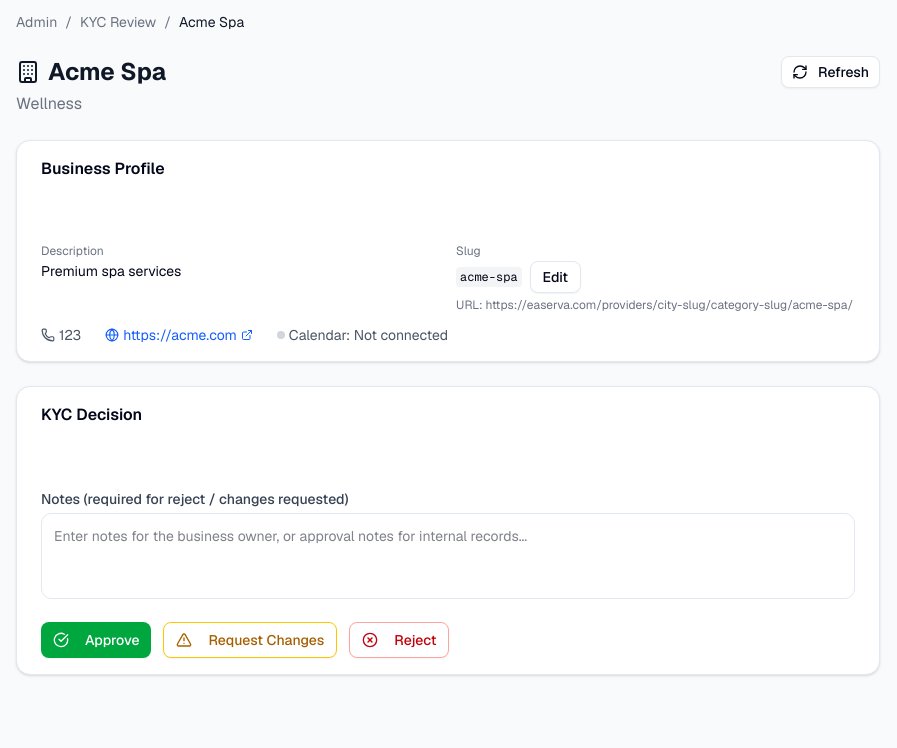
KYC detail page › reject without notes shows validation error
Expected: the heading "Acme Spa" is shown, x1=16 y1=56 x2=166 y2=88
Click the button "Reject". click: (399, 640)
box: x1=349 y1=622 x2=449 y2=658
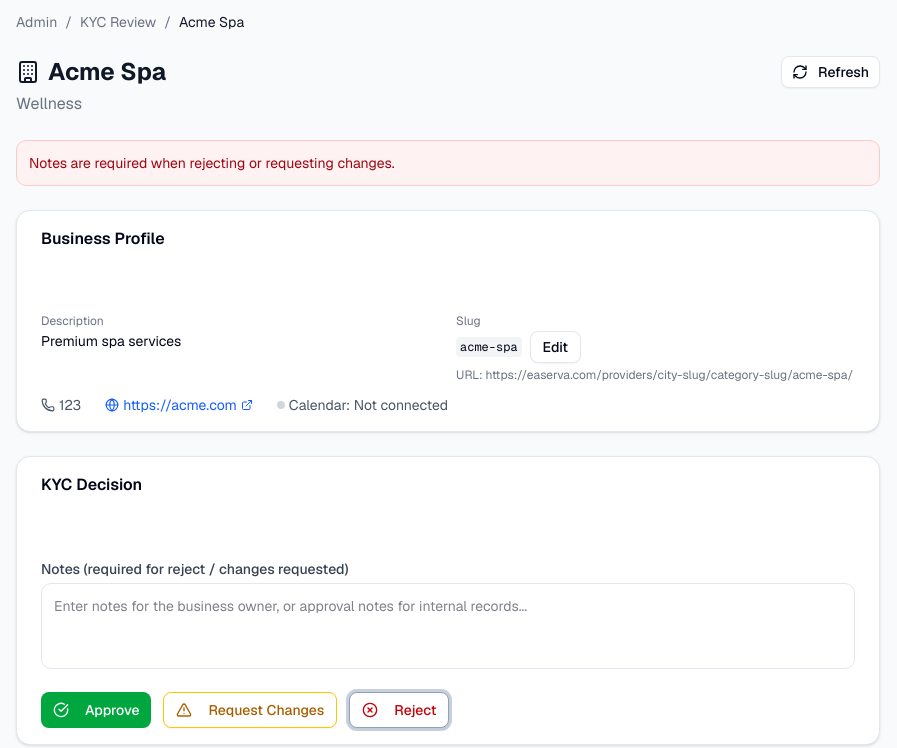
Now the text "Notes are required when rejecting or requesting changes." is shown, box x1=16 y1=140 x2=880 y2=186
